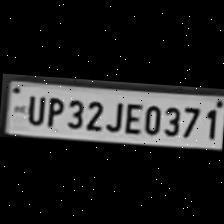0: (140, 100, 162, 133)
1: (198, 104, 219, 138)
2: (82, 95, 104, 131)
3: (62, 94, 86, 128), (160, 101, 181, 135)
7: (179, 102, 200, 138)
E: (122, 98, 142, 134)
J: (103, 96, 123, 132)
P: (42, 92, 64, 126)
U: (21, 91, 45, 124)
